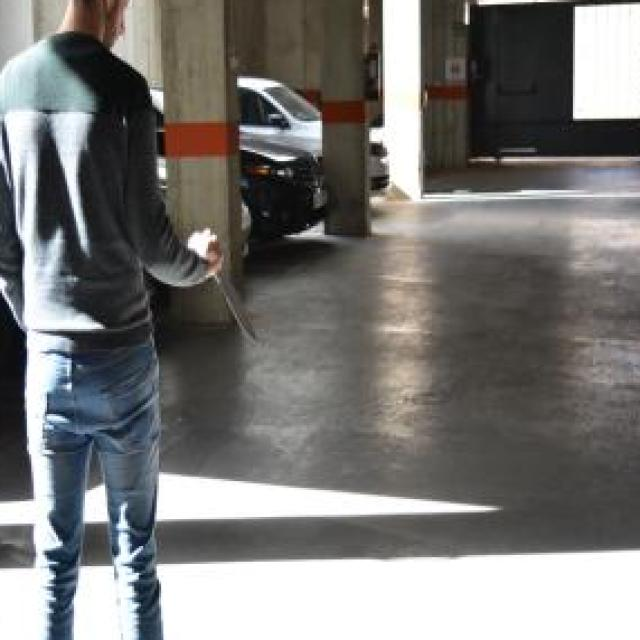knife: (210, 260, 262, 348)
